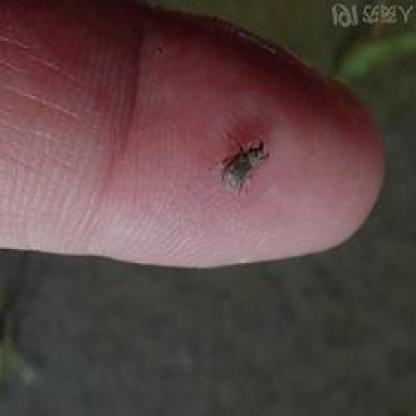rice-bug: (221, 136, 272, 193)
